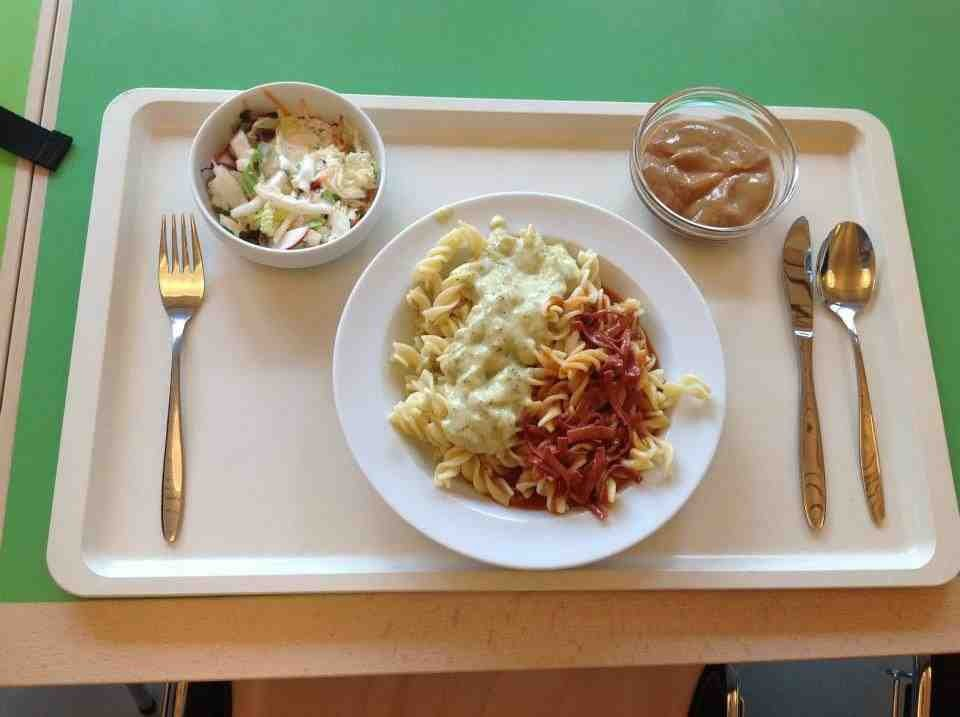bowl: (190, 83, 387, 271), (627, 85, 799, 244)
cutlery: (778, 213, 886, 535), (152, 213, 207, 545)
plate: (333, 189, 731, 570)
